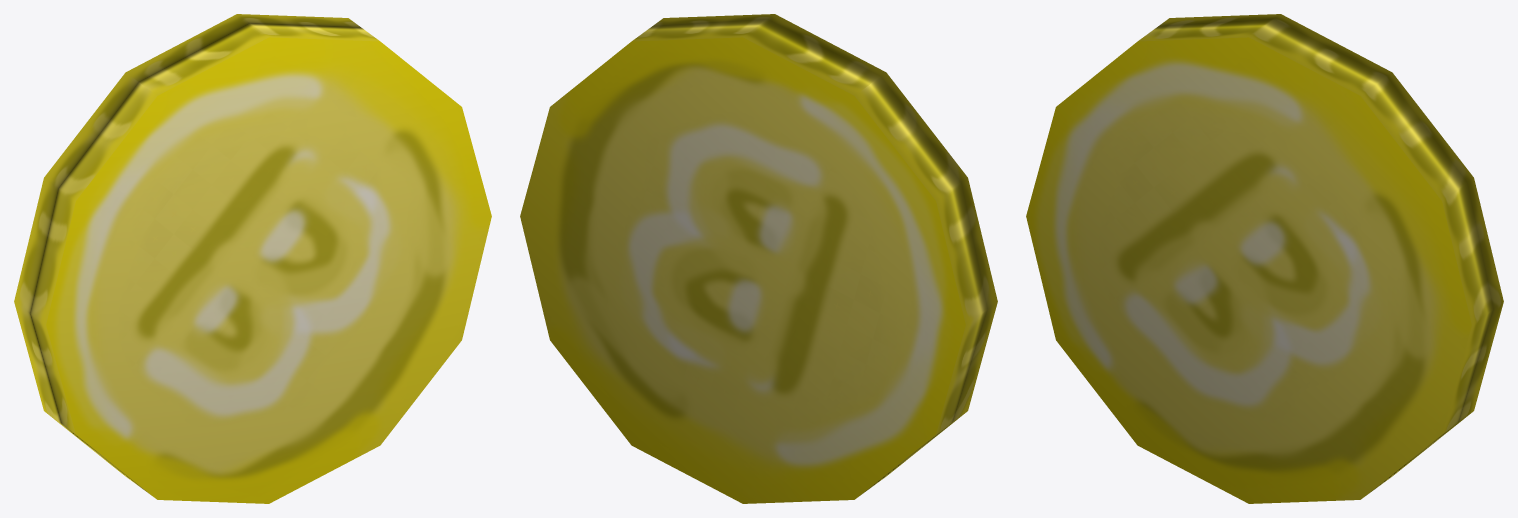
File: coin.dae
The picture shows the model from 3 angles, left to right: view 1: azimuth 30°, elevation 25°; view 2: azimuth 150°, elevation 25°; view 3: azimuth 330°, elevation 25°; orthographic projection.
Parts seen in each view (by area): view 1: Cylinder; view 2: Cylinder; view 3: Cylinder.
Part boxes in pixels (<box>): Cylinder: <box>14,14,491,503</box>; Cylinder: <box>520,14,997,503</box>; Cylinder: <box>1026,14,1503,503</box>.
Size of the model in its own units: 2 by 0.2487 by 2.
1 material, 1 textured.
